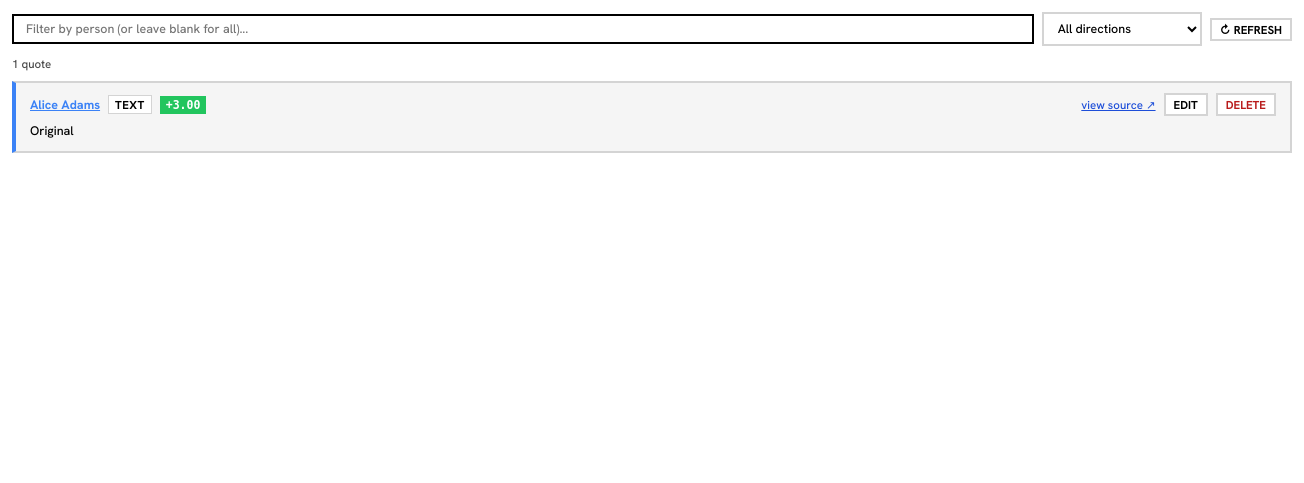
Test case: QuotesListView — inline edit › Cancel closes the editor without PATCHing
The image size is (1304, 483).
Expected: the text "Original" is shown, [30,123,74,139]
Step 1. Click the button "Edit" → (1186,104), box [1164,93,1208,116]
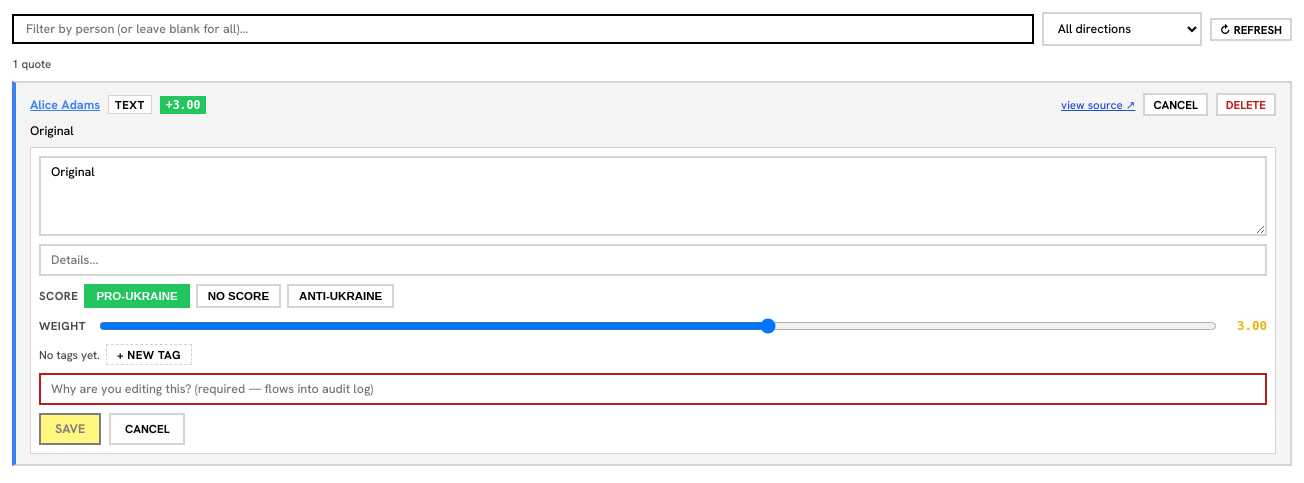
Now the button "Save" is shown, box [39,413,101,445]
Now the button "Cancel" next to "view source ↗" is shown
Step 2. Click the button "Cancel" next to "view source ↗" → (1176,104), box [1143,93,1208,116]
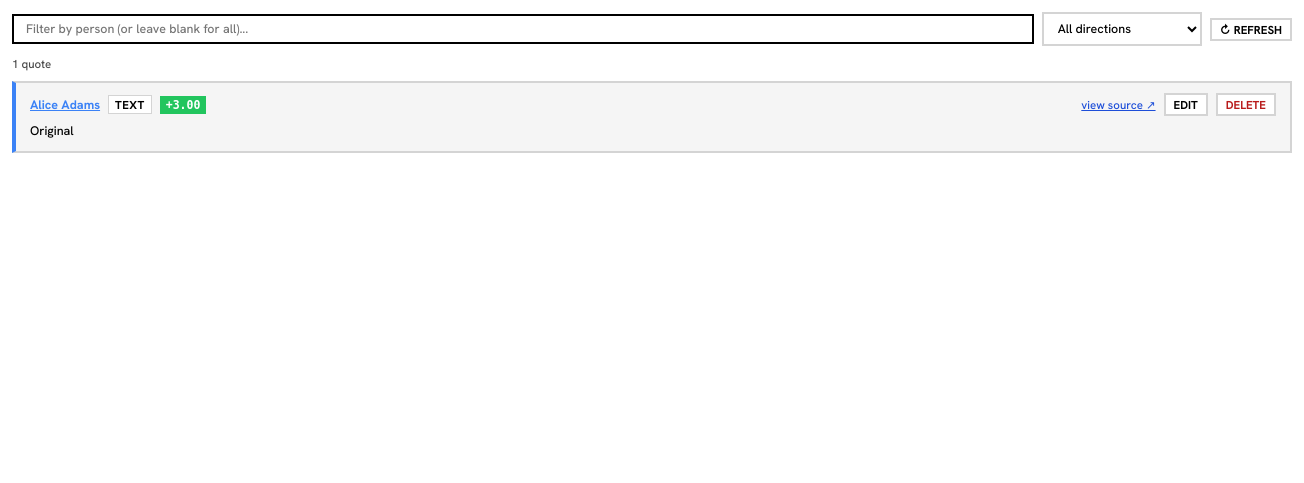
Now the button "Save" is gone
